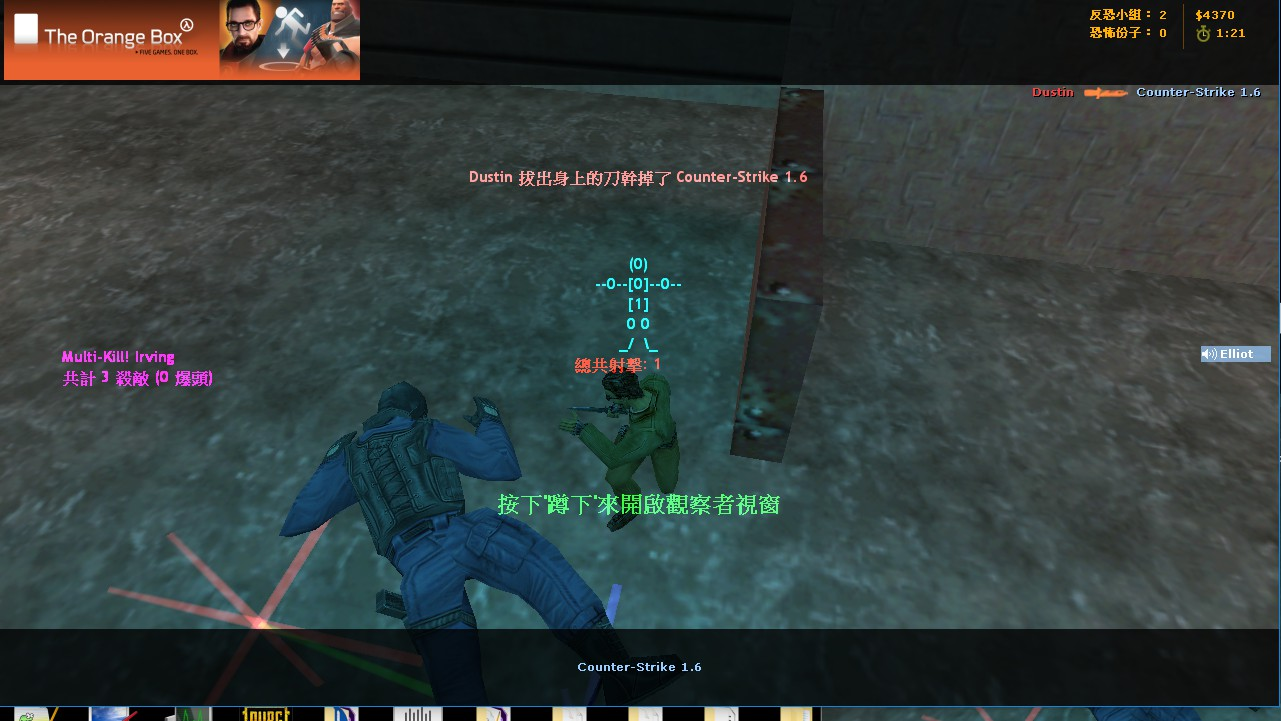person: (569, 368, 697, 537)
